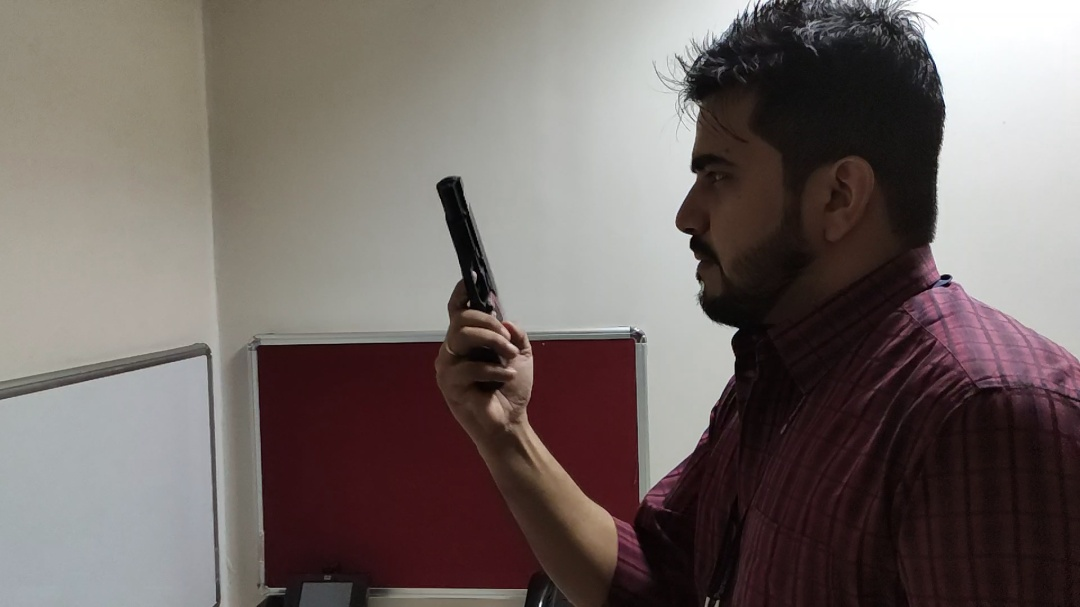gun: (433, 173, 515, 395)
